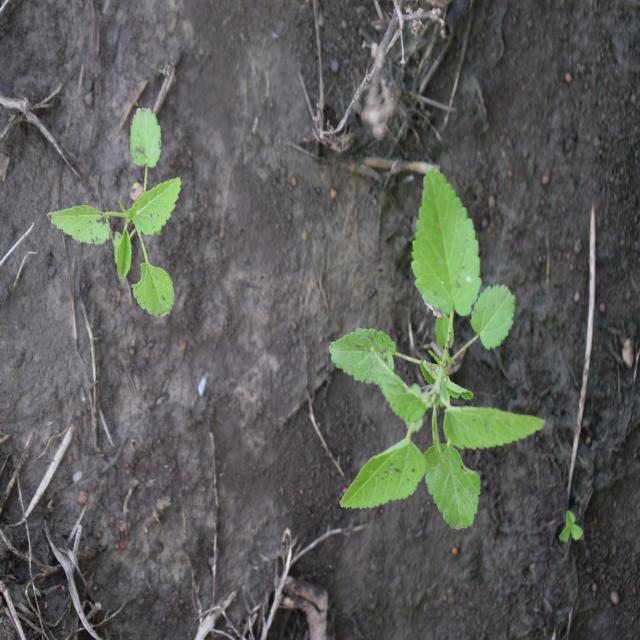PricklySida: (327, 168, 546, 534), (44, 105, 182, 321)
